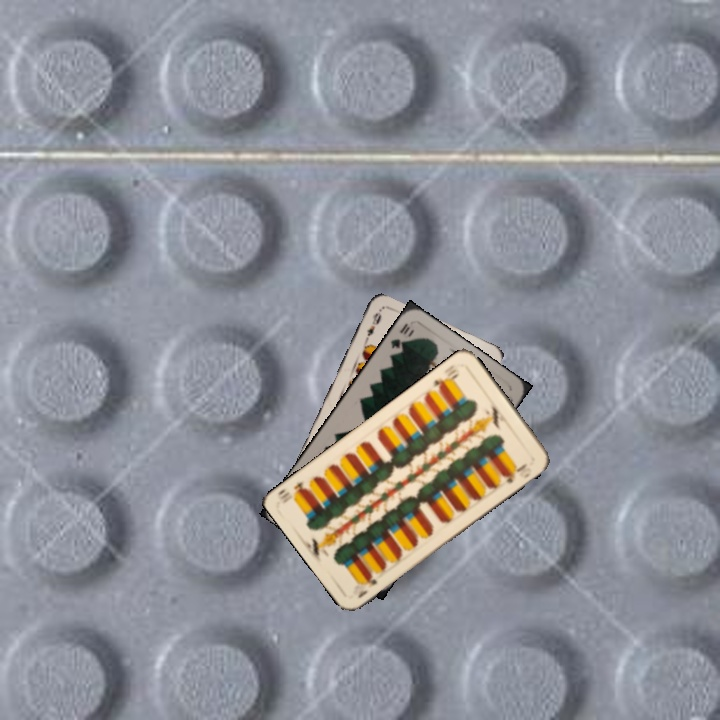E10: (429, 365, 462, 393), (353, 571, 380, 601)
E9: (360, 307, 384, 345)
G10: (386, 319, 412, 351)
